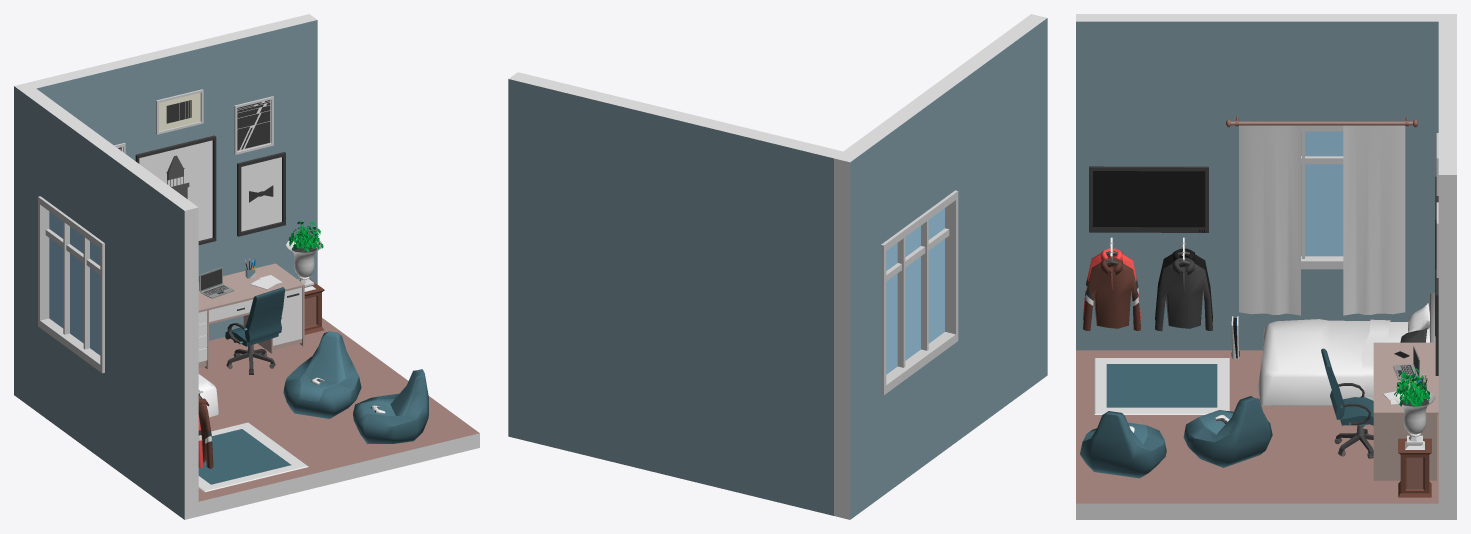
Rendered from room_7.glb.
3 views of the same model, side by side, from view 1: azimuth 30°, elevation 25°; view 2: azimuth 150°, elevation 25°; view 3: azimuth 270°, elevation 25° (orthographic). The views are drawn at different scales.
Visible parts, largest first — view 1: Walls_116.001, Walls_116.003, Walls_149.009, window_007.001, Walls_116.002, Walls_116.005, Walls_116.004, office_table_014.001, office_chair_022.001, picture_001.001, carpet_004.002, office_chair_022.002 (+8 smaller); view 2: Walls_116.001, Walls_116.003, Walls_116.002, window_007.001, Walls_116.005, Walls_116.004; view 3: Walls_116.003, Walls_149.009, Walls_116.005, Curtains_020.001, Curtains_020.002, Walls_116.002, bed_015.001, Walls_116.001, electronics_027.002, carpet_004.002, window_007.001, office_table_014.001 (+10 smaller).
Part boxes in pixels (x1,y1,x2,y2): Walls_116.001: [28, 14, 317, 340]; Walls_116.003: [103, 148, 198, 519]; Walls_149.009: [198, 318, 479, 516]; window_007.001: [38, 196, 104, 373]; Walls_116.002: [14, 82, 55, 415]; Walls_116.005: [42, 103, 116, 241]; Walls_116.004: [42, 330, 103, 459]; office_table_014.001: [198, 263, 304, 369]; office_chair_022.001: [283, 331, 361, 418]; picture_001.001: [135, 135, 216, 244]; carpet_004.002: [198, 422, 308, 491]; office_chair_022.002: [353, 369, 428, 444]; Walls_116.001: [508, 72, 842, 515]; Walls_116.003: [937, 14, 1047, 443]; Walls_116.002: [834, 134, 882, 519]; window_007.001: [881, 190, 958, 395]; Walls_116.005: [867, 83, 953, 242]; Walls_116.004: [883, 344, 953, 495]; Walls_116.003: [1076, 14, 1257, 350]; Walls_149.009: [1076, 350, 1438, 519]; Walls_116.005: [1257, 14, 1393, 121]; Curtains_020.001: [1343, 125, 1405, 315]; Curtains_020.002: [1239, 125, 1300, 315]; Walls_116.002: [1393, 14, 1456, 321]; bed_015.001: [1258, 292, 1435, 405]; Walls_116.001: [1438, 21, 1456, 519]; electronics_027.002: [1089, 166, 1208, 232]; carpet_004.002: [1094, 358, 1229, 414]; window_007.001: [1301, 125, 1343, 269]; office_table_014.001: [1373, 342, 1438, 480].
Bounding box in the file's own units: 4.24 × 4.2 × 4.2.
Materials: 1 (1 with a texture image).
